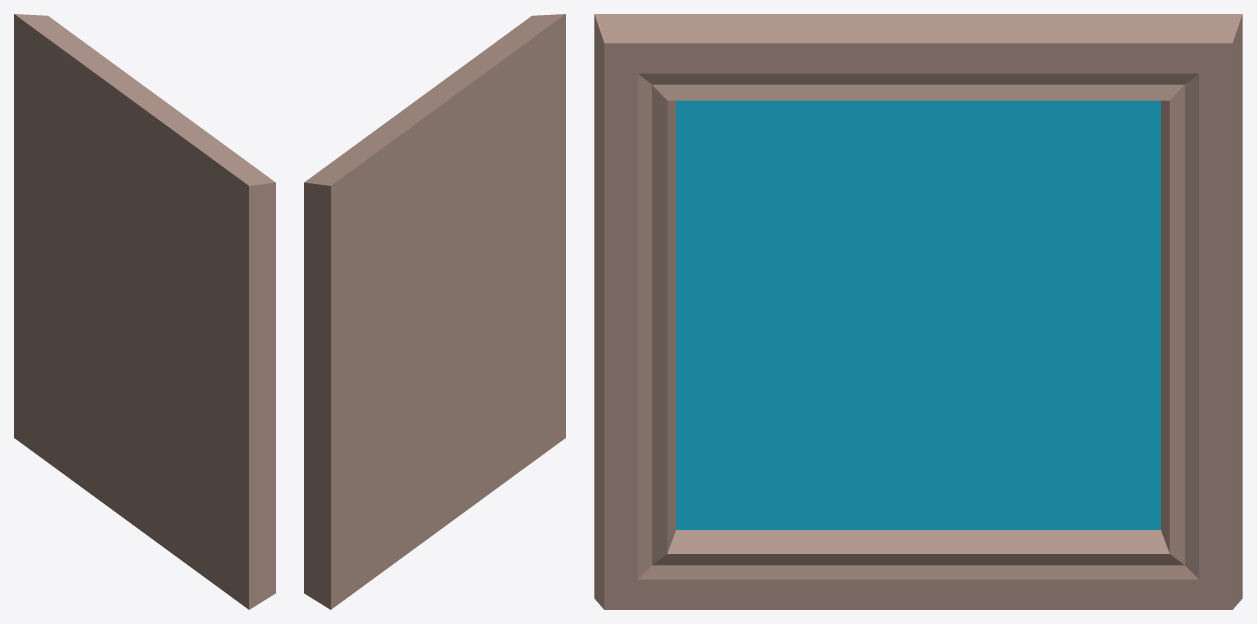
File: picture.glb
The picture shows the model from 3 angles, left to right: view 1: azimuth 30°, elevation 25°; view 2: azimuth 150°, elevation 25°; view 3: azimuth 270°, elevation 25°; orthographic projection. The views are drawn at different scales.
Parts seen in each view (by area): view 1: Wall_Painting_01_Plane.002; view 2: Wall_Painting_01_Plane.002; view 3: Wall_Painting_01_Plane.002.
Boxes of the visible parts, <box> form: Wall_Painting_01_Plane.002: <box>14,14,275,609</box>; Wall_Painting_01_Plane.002: <box>304,14,565,609</box>; Wall_Painting_01_Plane.002: <box>594,14,1242,609</box>.
Size of the model in its own units: 0.104 by 1.36 by 1.36.
